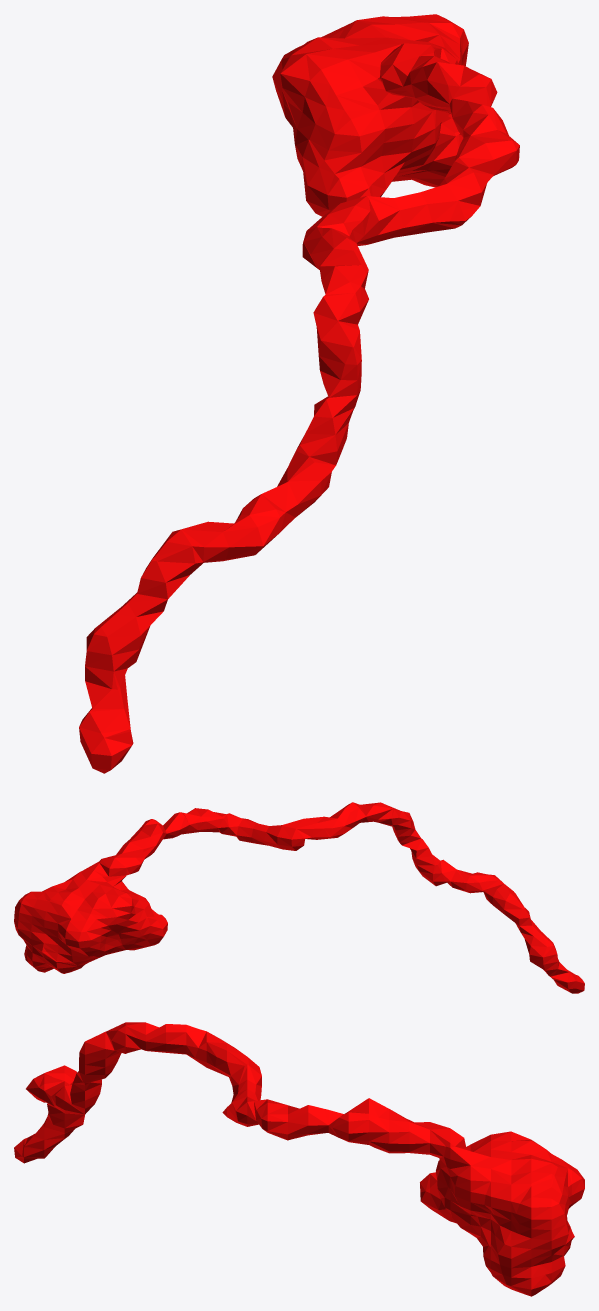
The model's file is glpG_coarse.dae.
3 views of the same model, one above another, from view 1: azimuth 30°, elevation 25°; view 2: azimuth 150°, elevation 25°; view 3: azimuth 270°, elevation 25° (orthographic). The views are drawn at different scales.
Parts seen in each view (by area): view 1: glpG; view 2: glpG; view 3: glpG.
Boxes of the visible parts, box(x1,y1,x2,y2) form: glpG: box(79, 14, 519, 773); glpG: box(14, 802, 584, 993); glpG: box(14, 1022, 584, 1296).
Bounding box in the file's own units: 176 × 85.47 × 170.
